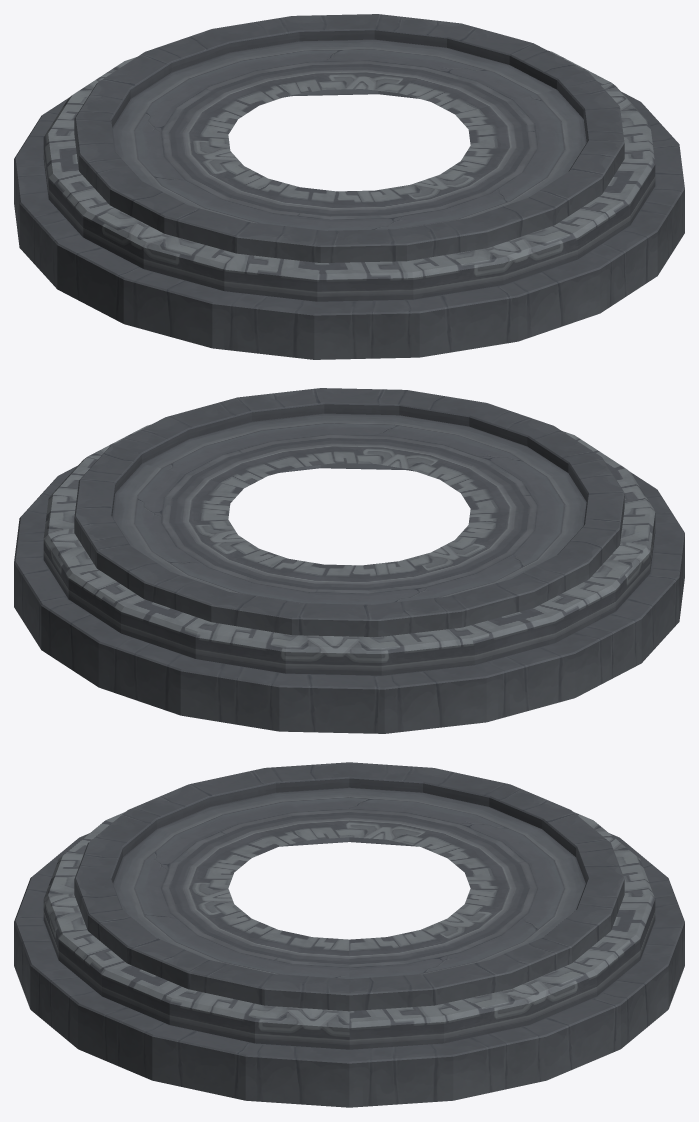
The model's file is SM_ManaPool_Dais_01.fbx.
3 renders of one model, top to bottom at view 1: azimuth 30°, elevation 25°; view 2: azimuth 150°, elevation 25°; view 3: azimuth 270°, elevation 25°, orthographic.
Parts seen in each view (by area): view 1: SM_ManaPool_Dais_01; view 2: SM_ManaPool_Dais_01; view 3: SM_ManaPool_Dais_01.
Boxes of the visible parts, left/top/right/bottom form: SM_ManaPool_Dais_01: left=14, top=14, right=684, bottom=359; SM_ManaPool_Dais_01: left=14, top=388, right=684, bottom=733; SM_ManaPool_Dais_01: left=14, top=762, right=684, bottom=1107.
Size of the model in its own units: 721 by 104 by 721.
